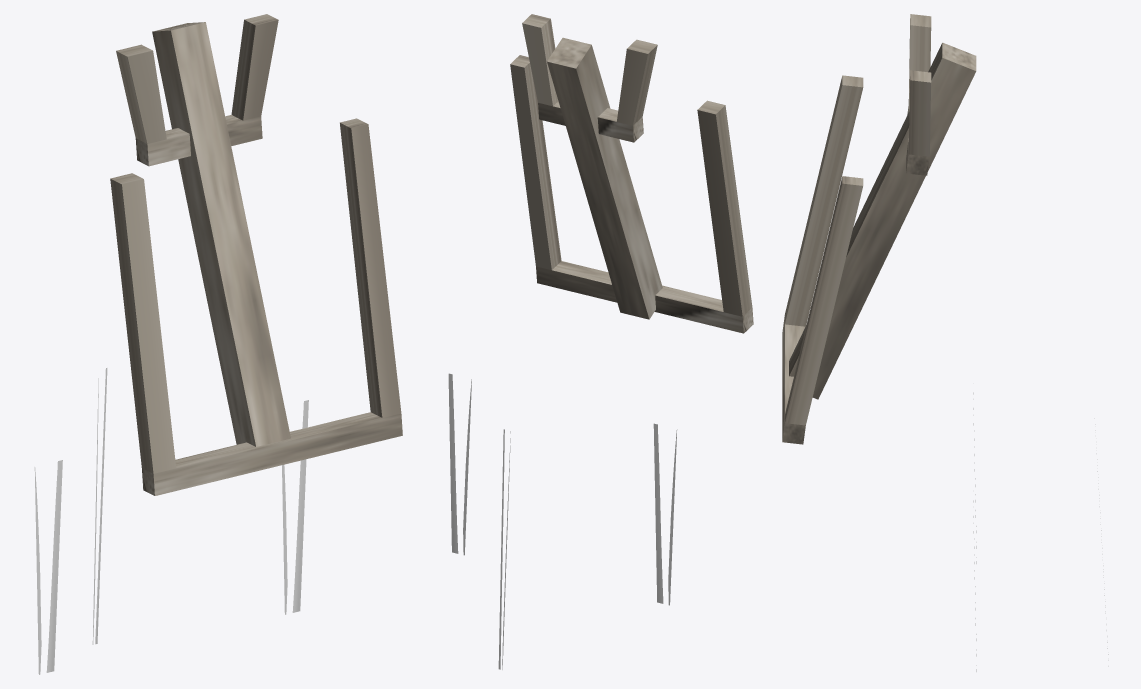
Rendered from lusi_prop_elite_1.dae.
The picture shows the model from 3 angles, left to right: view 1: azimuth 30°, elevation 25°; view 2: azimuth 150°, elevation 25°; view 3: azimuth 270°, elevation 25°; orthographic projection. The views are drawn at different scales.
Parts seen in each view (by area): view 1: lusi_prop_elite_1; view 2: lusi_prop_elite_1; view 3: lusi_prop_elite_1.
Part boxes in pixels (x1,y1,x2,y2): lusi_prop_elite_1: (34,14,402,674); lusi_prop_elite_1: (448,14,753,669); lusi_prop_elite_1: (782,14,1108,671).
Bounding box in the file's own units: 0.5452 × 0.5854 × 1.16.
